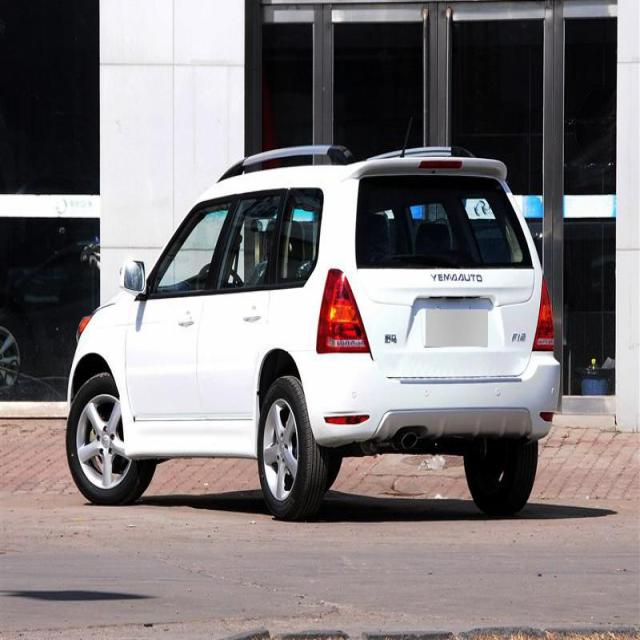back_glass: (351, 176, 536, 271)
back_left_side_light: (314, 266, 372, 358)
back_right_side_light: (529, 273, 553, 353)
door: (195, 191, 272, 445)
front_left_side_door: (123, 188, 235, 424)
front_left_side_light: (75, 314, 95, 340)
front_left_side_mirror: (120, 256, 151, 303)
rear_bumper: (299, 346, 561, 450)
wheel: (65, 372, 158, 504), (259, 375, 332, 521), (463, 444, 542, 509)
